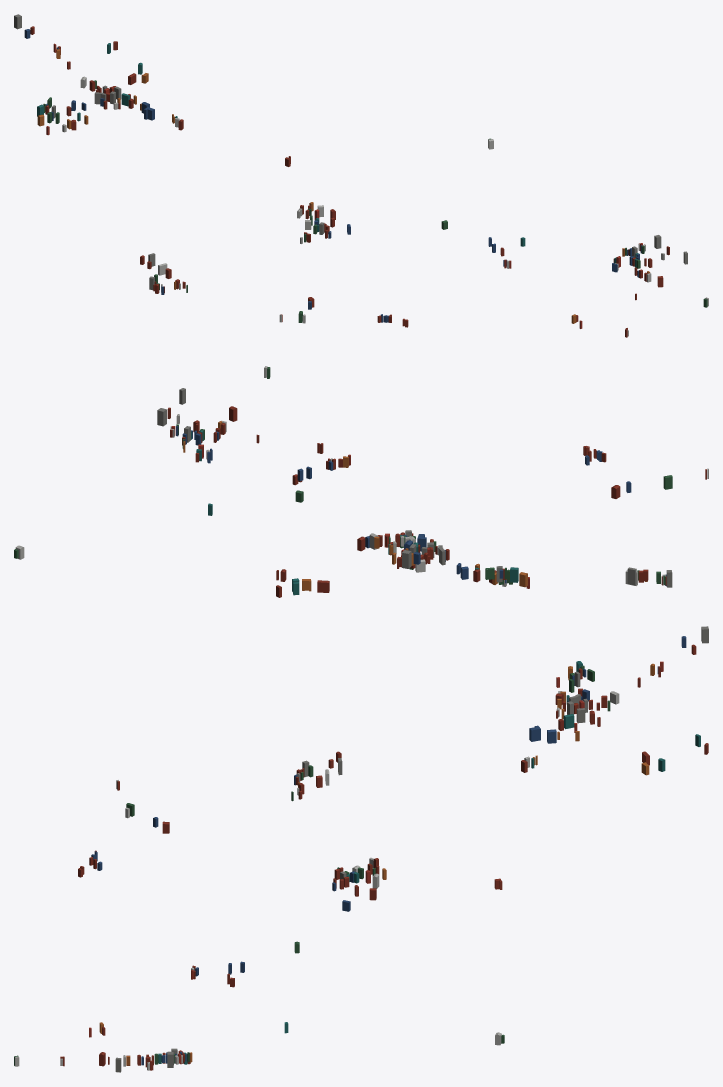
The model's file is near-15-27368-14870.093f4b75.glb.
3 renders of one model, top to bottom at view 1: azimuth 30°, elevation 25°; view 2: azimuth 150°, elevation 25°; view 3: azimuth 270°, elevation 25°, orthographic. The views are drawn at different scales.
Bounding box in the file's own units: 1055 × 450 × 1167.
